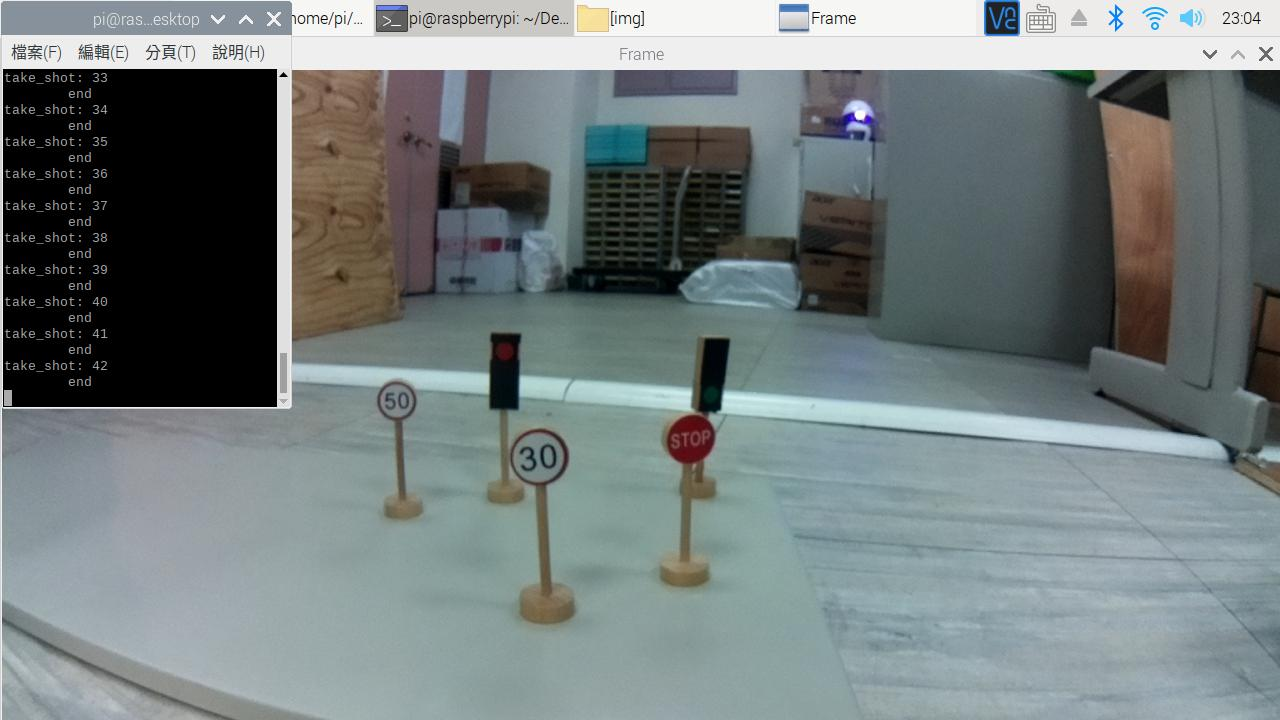Green: (698, 331, 728, 417)
Red: (485, 334, 522, 417)
Speed30: (510, 430, 570, 483)
Speed50: (375, 378, 418, 424)
Stop: (662, 416, 716, 469)
